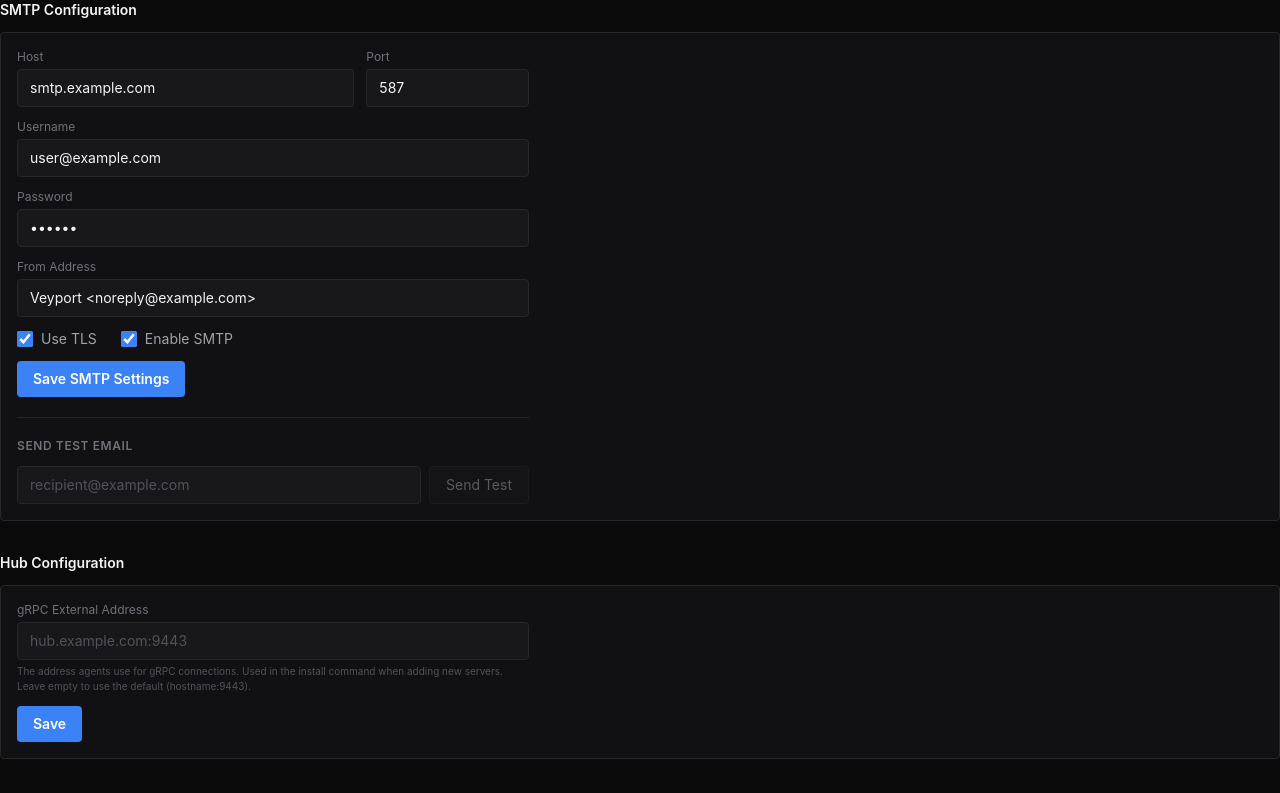
Scenario: NotificationsTab › shows success message after save
Click the button "Save SMTP Settings".
click(101, 379)  # box [17, 361, 185, 397]
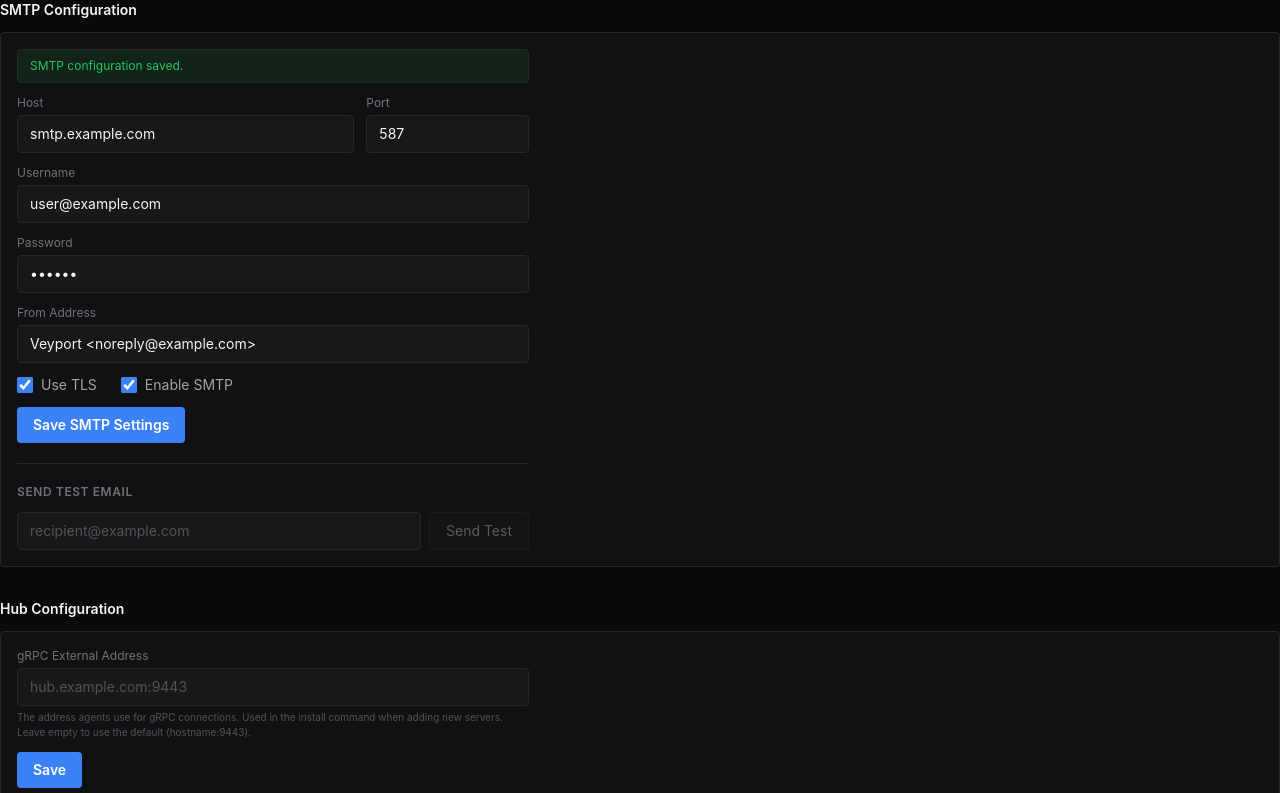
expect the text "SMTP configuration saved." is shown: met, box [17, 49, 529, 83]
